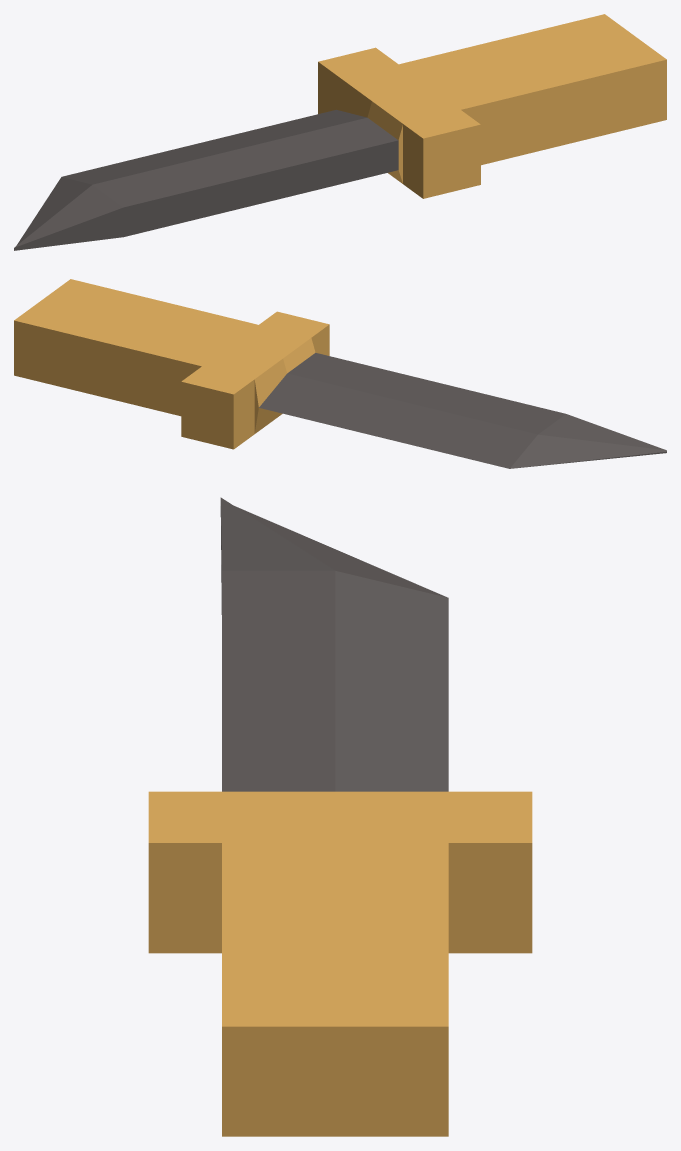
Rendered from iron_knife.glb.
3 renders of one model, top to bottom at view 1: azimuth 30°, elevation 25°; view 2: azimuth 150°, elevation 25°; view 3: azimuth 270°, elevation 25°, orthographic. The views are drawn at different scales.
Visible parts, largest first — view 1: Cube; view 2: Cube; view 3: Cube.
Boxes of the visible parts, left/top/right/bottom form: Cube: left=14, top=14, right=666, bottom=250; Cube: left=14, top=279, right=666, bottom=468; Cube: left=148, top=497, right=532, bottom=1136.
Bounding box in the file's own units: 9.51 × 0.8393 × 2.65.
